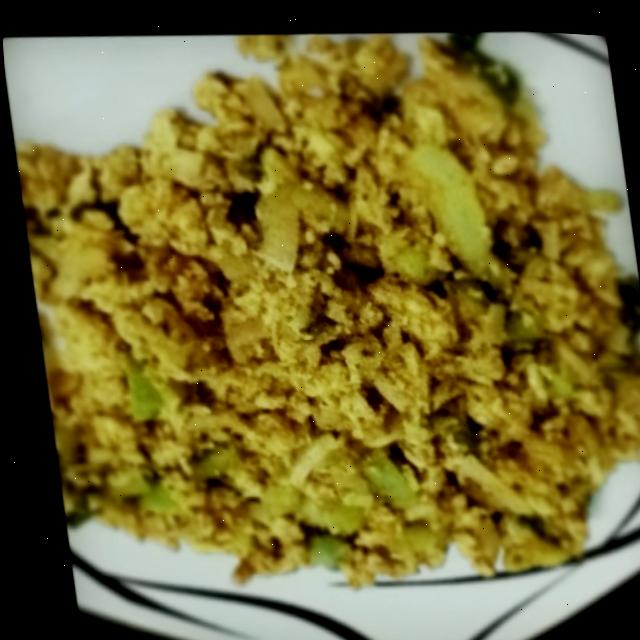鸡肉料理 含炸鸡: (3, 0, 640, 640)
